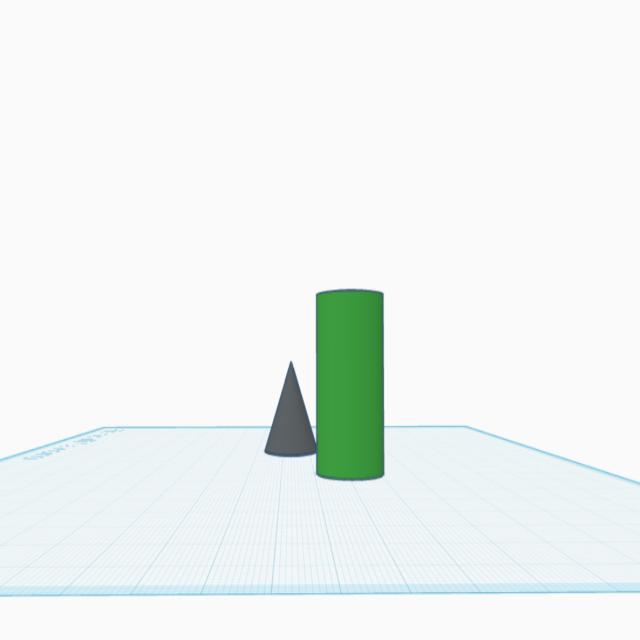cone: (260, 357, 320, 461)
